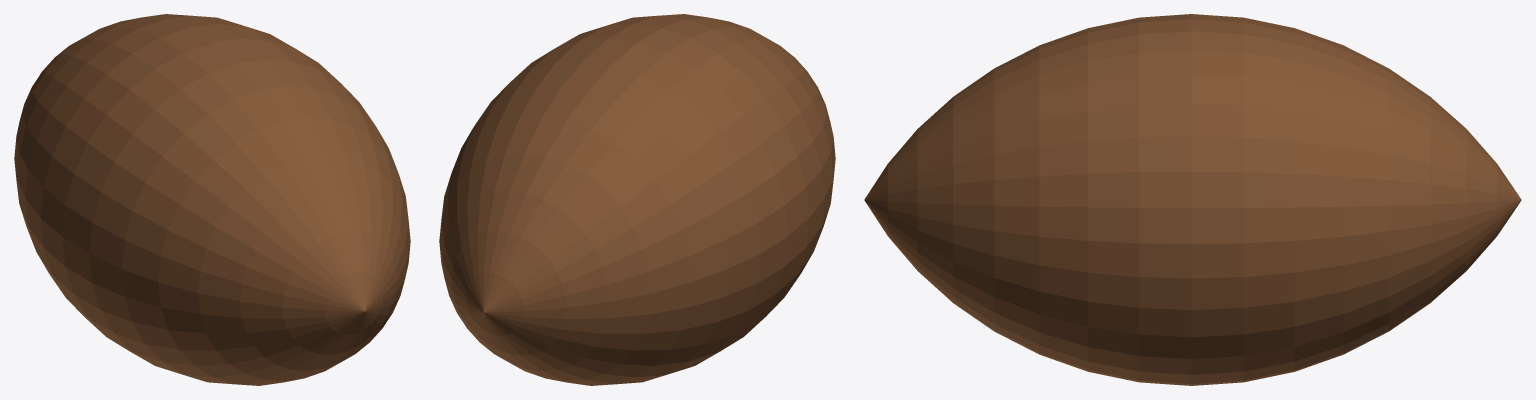
File: football.glb
3 renders of one model, left to right at view 1: azimuth 30°, elevation 25°; view 2: azimuth 150°, elevation 25°; view 3: azimuth 270°, elevation 25°, orthographic. The views are drawn at different scales.
Parts seen in each view (by area): view 1: Sphere; view 2: Sphere; view 3: Sphere.
Part boxes in pixels (<box>): Sphere: <box>14,14,410,385</box>; Sphere: <box>439,14,835,385</box>; Sphere: <box>864,14,1521,385</box>.
Size of the model in its own units: 1.16 by 1.16 by 2.04.
